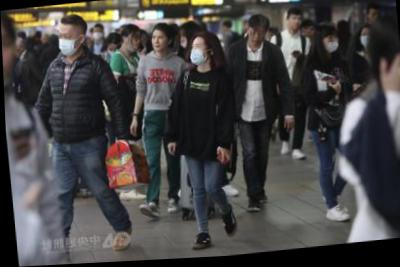NONE: (248, 30, 267, 49), (150, 34, 168, 53), (288, 17, 303, 34), (368, 13, 382, 29), (303, 29, 315, 43)
OK: (58, 28, 81, 57), (189, 43, 209, 69), (324, 38, 339, 57), (359, 34, 375, 51), (106, 47, 121, 59), (93, 30, 103, 42)
WRONG: (127, 34, 143, 53), (177, 34, 190, 51)
